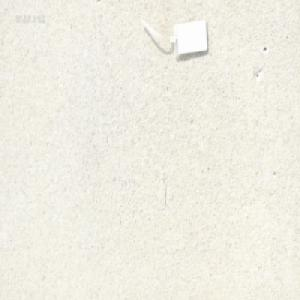LuggageTag: (136, 15, 209, 60)
